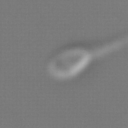normal: (91, 31, 128, 56)
